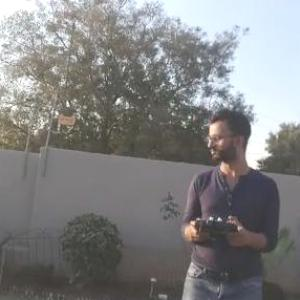follow: (178, 100, 290, 299)
